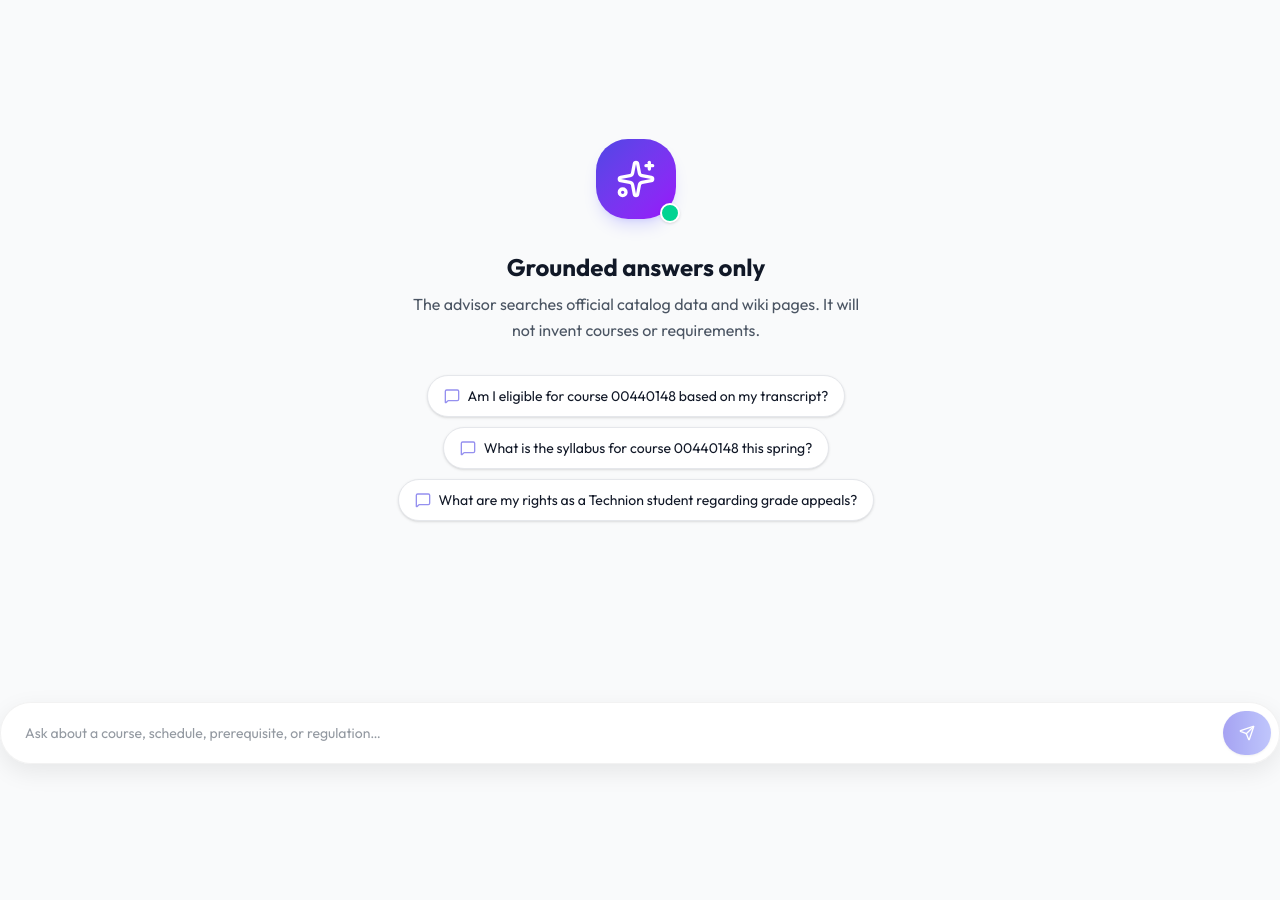
Test case: AdvisorPage activity trace › keeps earlier steps visible when a later step arrives
Type "How many credits do I have left?" into the field with test id "advisor-input" at (612, 733), box [9,711,1215,755]
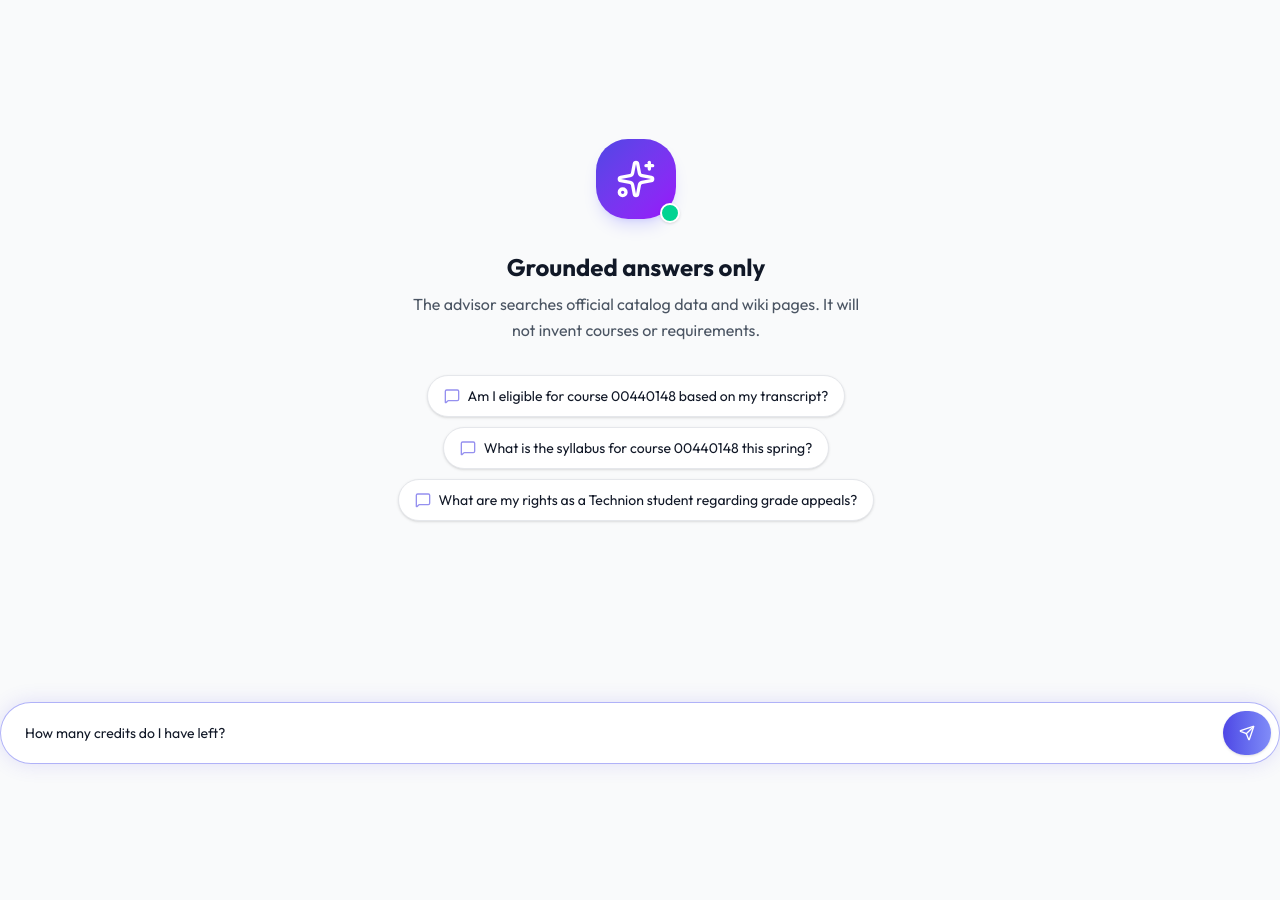
Click the button with test id "advisor-submit" at (1247, 733), box [1223,711,1271,755]
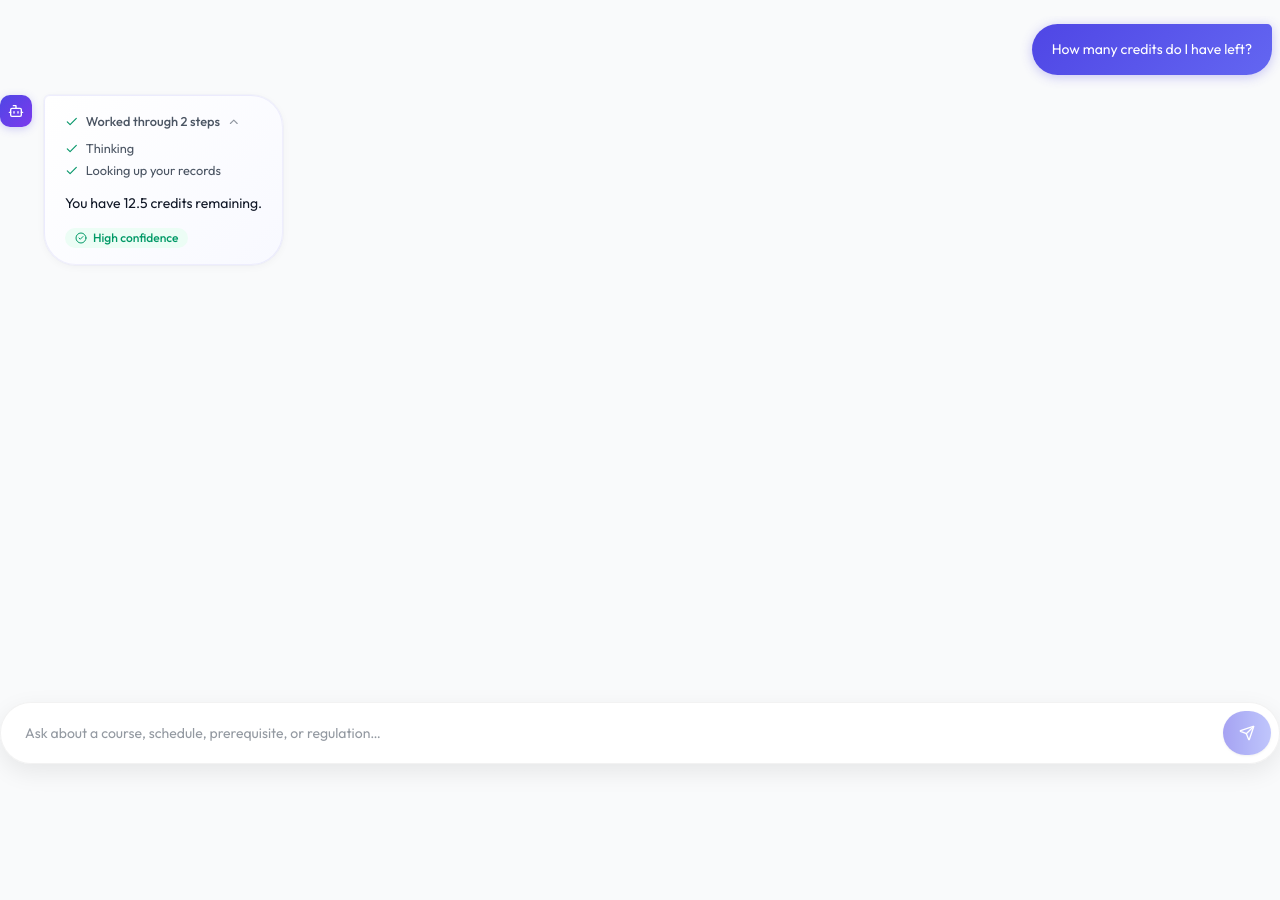
Expected: the element with test id "advisor-activity" shows "Thinking", [86,140,134,156]
Expected: the element with test id "advisor-activity" shows "Looking up your records", [86,162,221,178]
Expected: the text "You have 12.5 credits remaining." is shown, [65,192,262,216]
